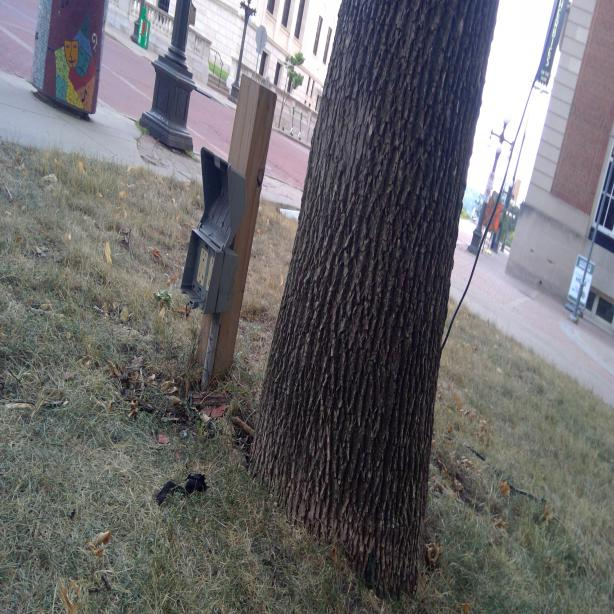typeb: (200, 249, 209, 265), (196, 271, 205, 284)
